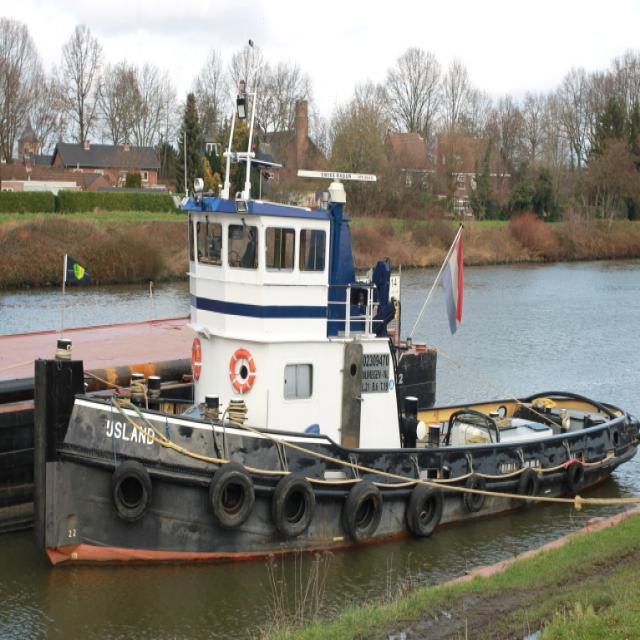tugboat: (27, 143, 640, 577)
